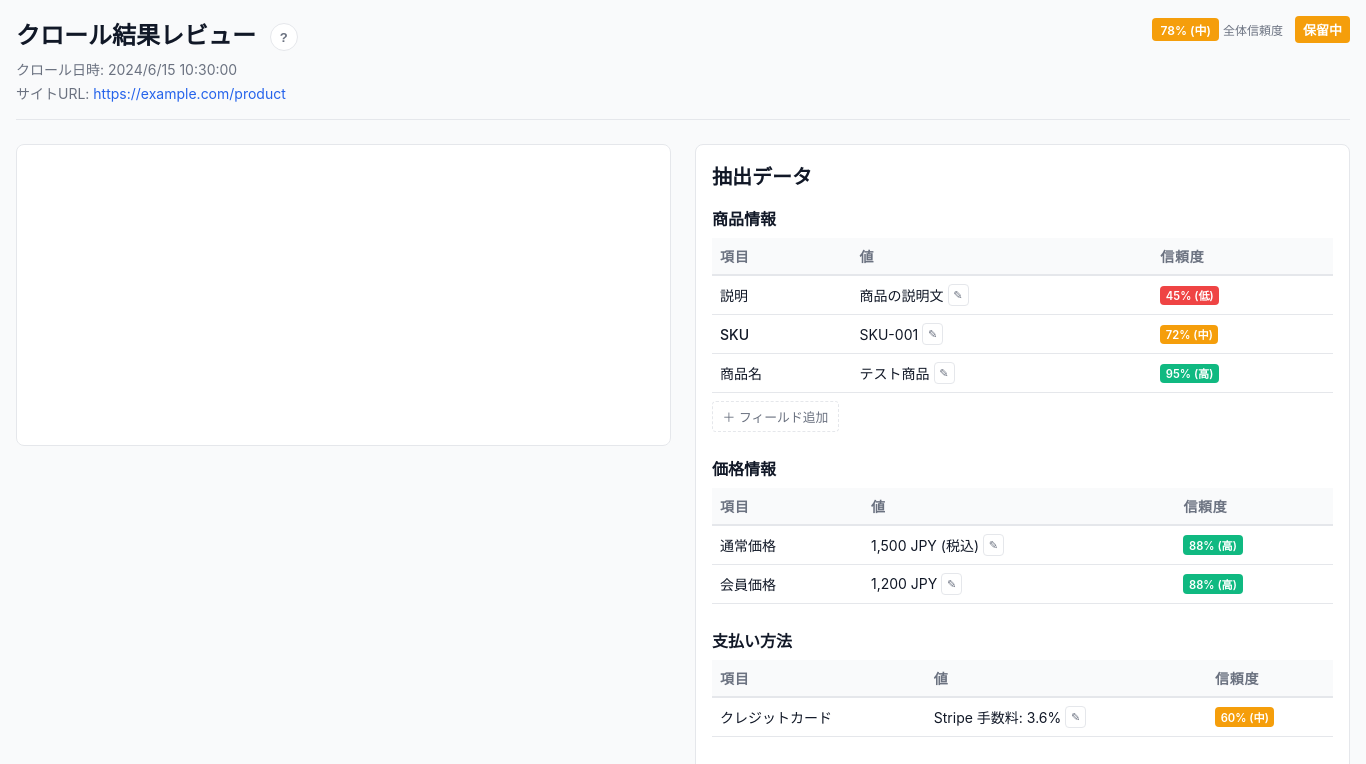
CrawlResultReview Integration › ヘルプモーダル › opens help modal with page-specific content on click (Req 6.2, 6.5)
expect the heading "クロール結果レビュー ?" is shown: met, box [16,16,298,52]
Click the button named "ヘルプを表示" at (284, 38), box [270,24,298,52]
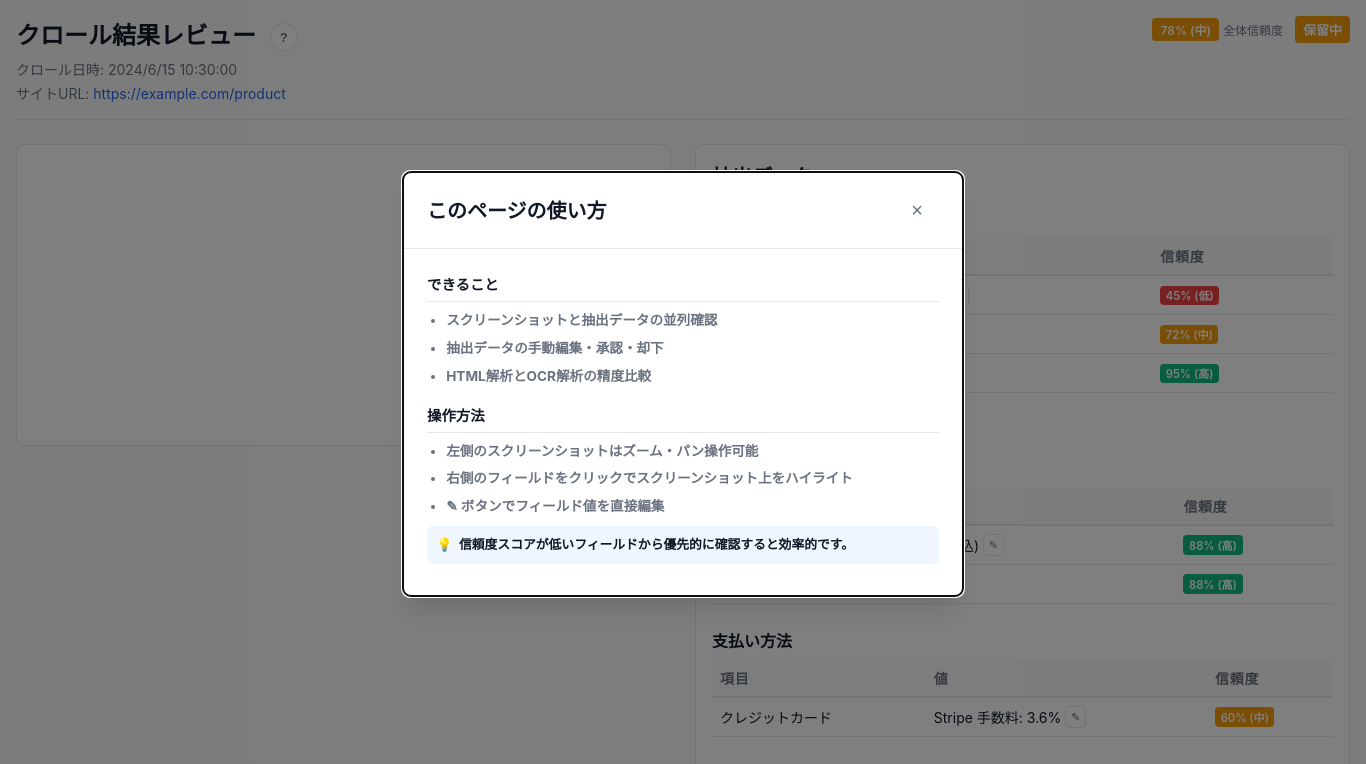
expect the heading "このページの使い方" is shown: met, box [427,195,607,224]
expect the list item "スクリーンショットと抽出データの並列確認" is shown: met, box [446,312,717,328]
expect the list item "右側のフィールドをクリックでスクリーンショット上をハイライト" is shown: met, box [446,470,853,486]
